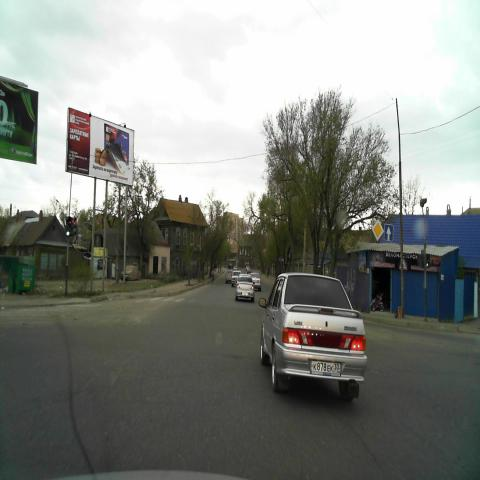5_5: (384, 224, 394, 242)
